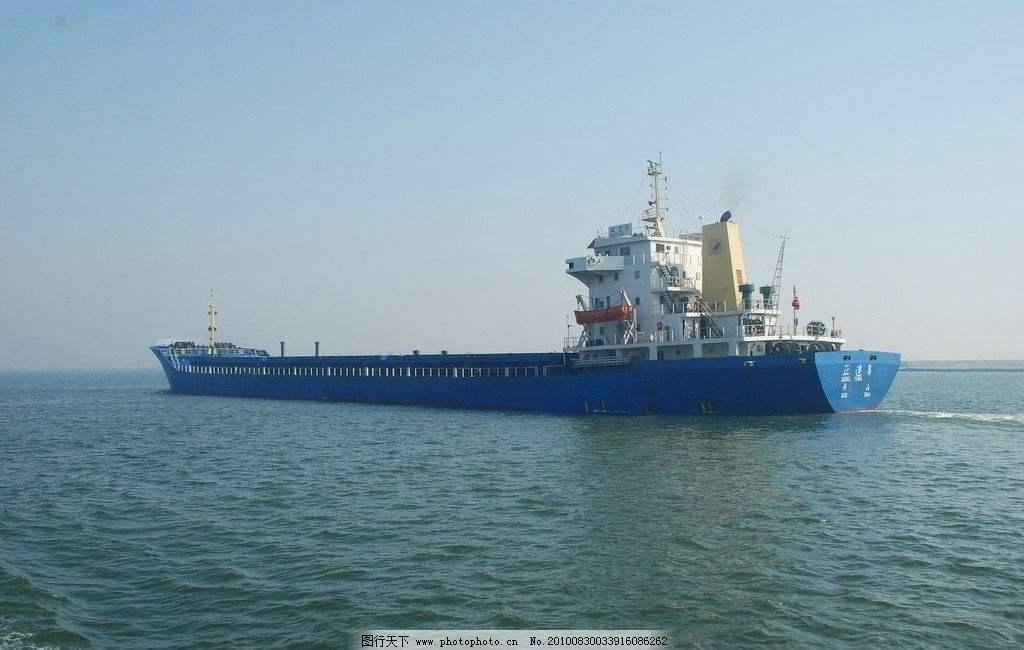Cargoship: (149, 161, 903, 417)
